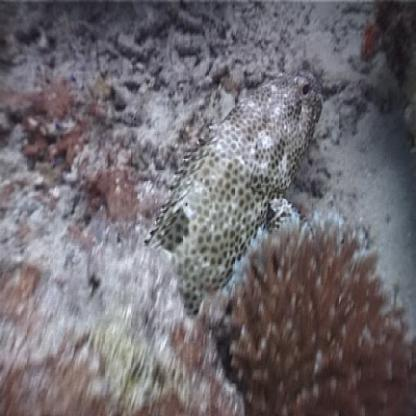grouper: (145, 61, 328, 316)
